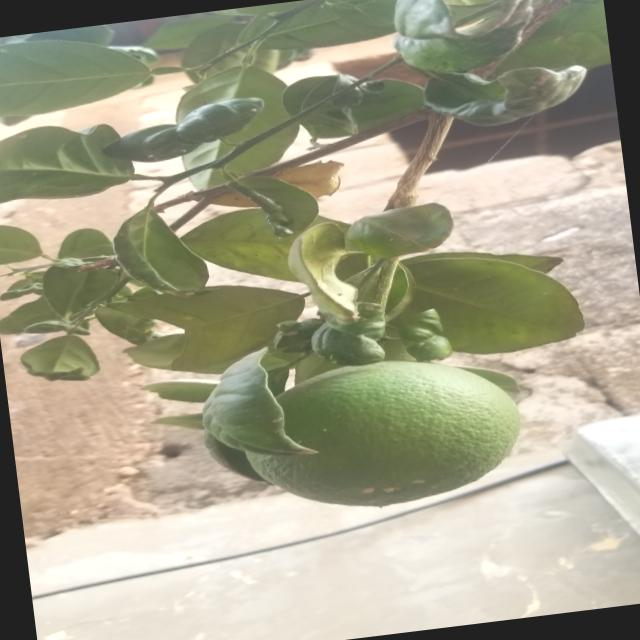Unripe: (209, 344, 547, 546)
